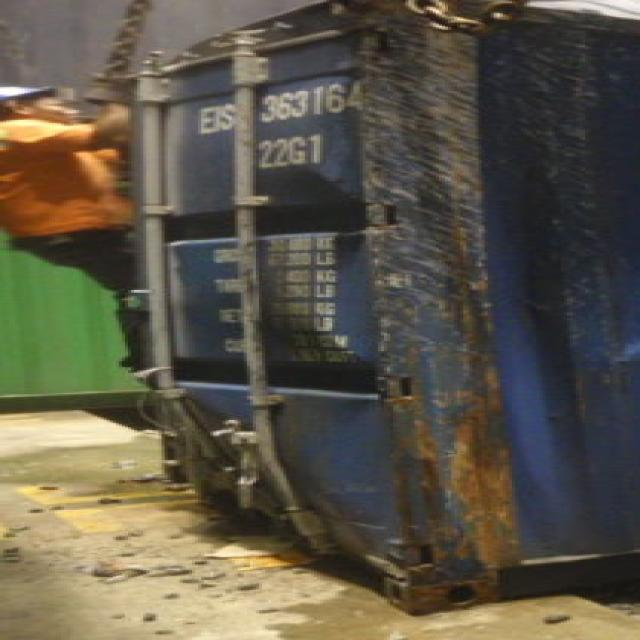dent: (243, 64, 376, 198), (215, 285, 339, 420), (263, 163, 367, 313), (565, 204, 640, 378)
